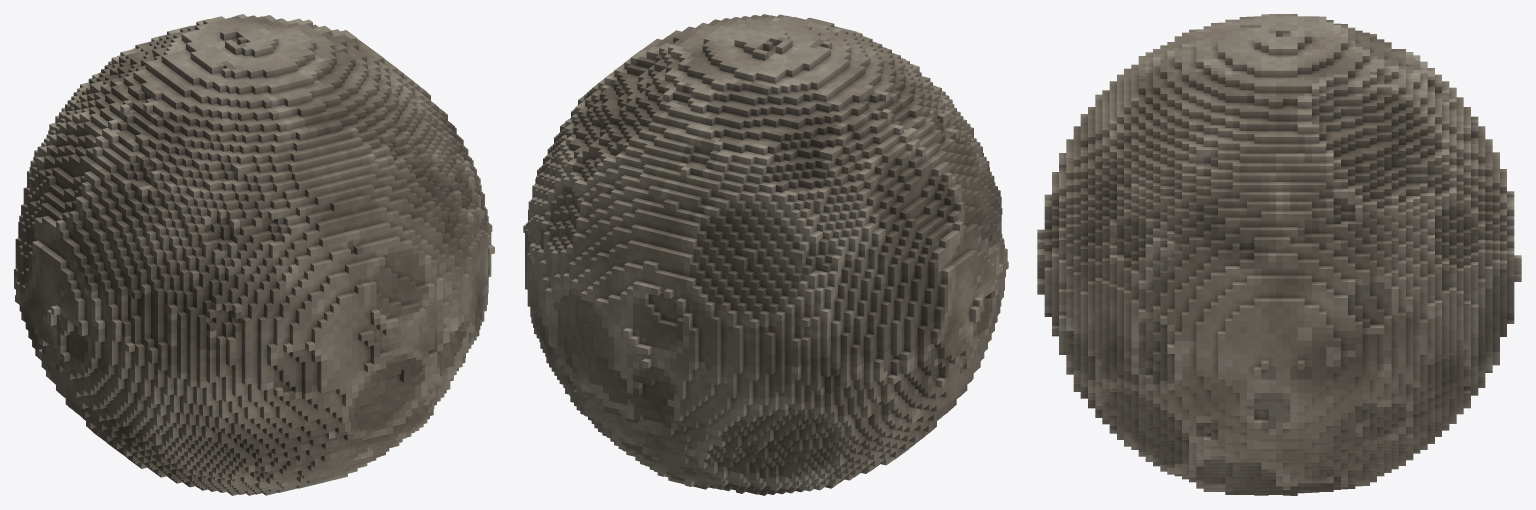
Rendered from ganymede_lod0.glb.
The picture shows the model from 3 angles, left to right: view 1: azimuth 30°, elevation 25°; view 2: azimuth 150°, elevation 25°; view 3: azimuth 270°, elevation 25°; orthographic projection.
Parts seen in each view (by area): view 1: ganymede_lod0; view 2: ganymede_lod0; view 3: ganymede_lod0.
Part boxes in pixels (x1,y1,x2,y2): ganymede_lod0: [14, 14, 494, 495]; ganymede_lod0: [523, 14, 1008, 495]; ganymede_lod0: [1037, 14, 1521, 495].
Bounding box in the file's own units: 2.09 × 2.09 × 2.09.
